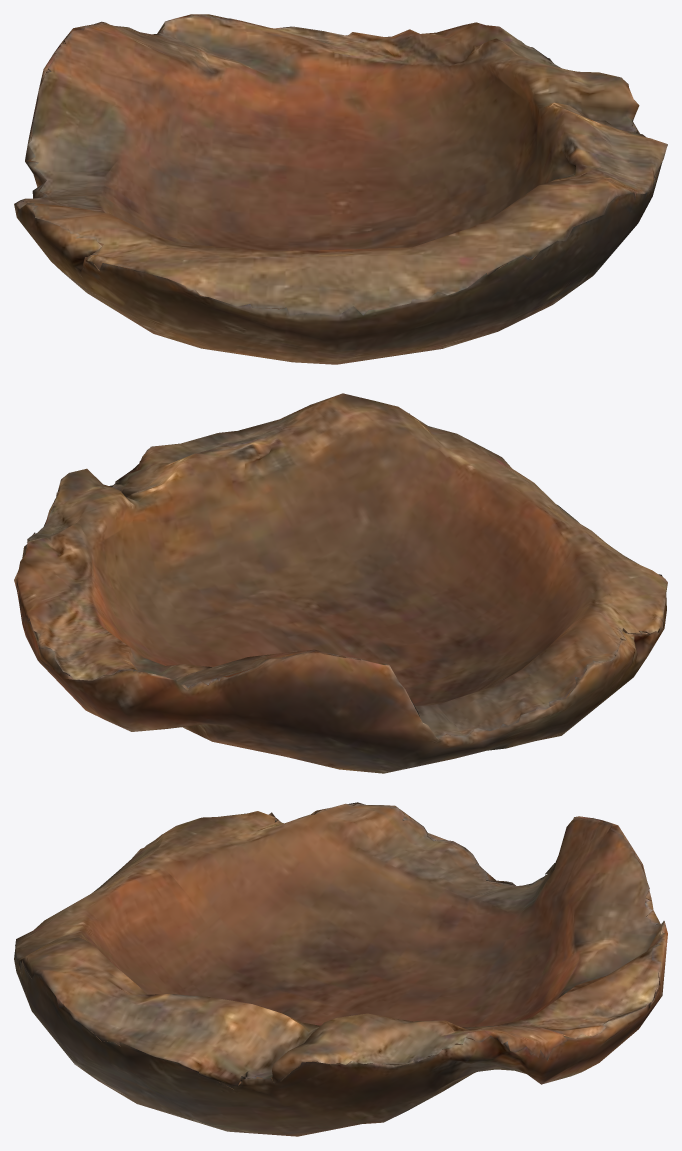
Rendered from wooden_bowl_01.glb.
The picture shows the model from 3 angles, top to bottom: view 1: azimuth 30°, elevation 25°; view 2: azimuth 150°, elevation 25°; view 3: azimuth 270°, elevation 25°; orthographic projection. The views are drawn at different scales.
Visible parts, largest first — view 1: wooden_bowl_01; view 2: wooden_bowl_01; view 3: wooden_bowl_01.
Part boxes in pixels (x1,y1,x2,y2): wooden_bowl_01: [14, 14, 667, 364]; wooden_bowl_01: [14, 393, 667, 773]; wooden_bowl_01: [14, 802, 667, 1136].
Bounding box in the file's own units: 0.3132 × 0.0931 × 0.3097.
1 material, 1 textured.
